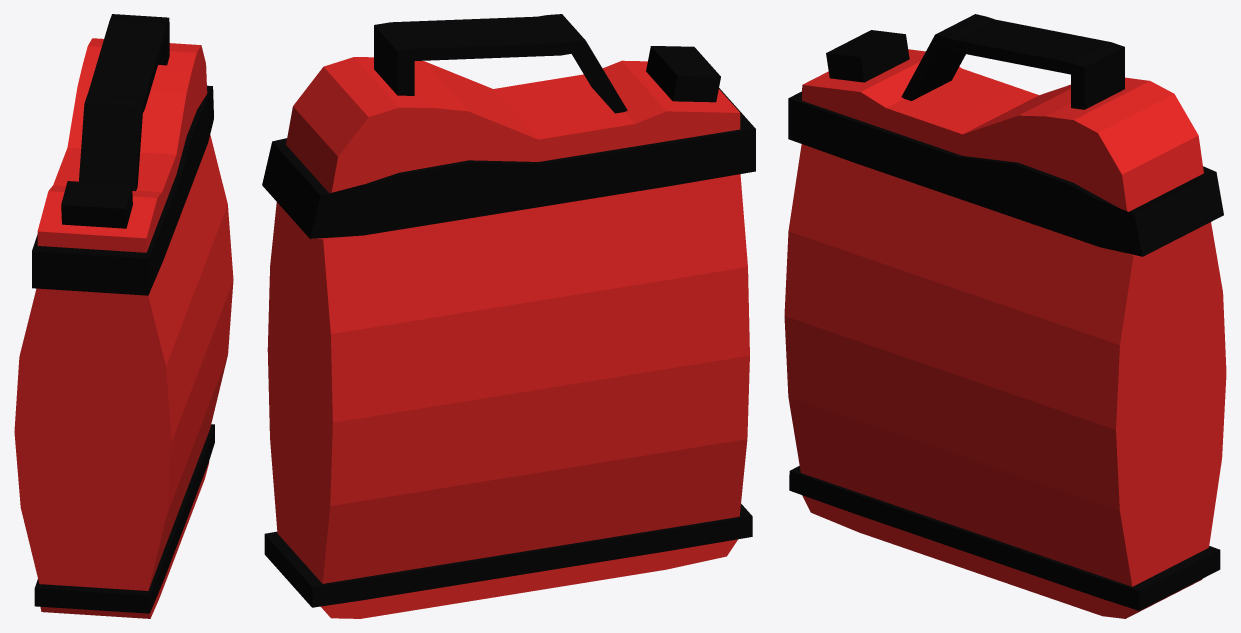
The model's file is fuelcan.glb.
The picture shows the model from 3 angles, left to right: view 1: azimuth 30°, elevation 25°; view 2: azimuth 150°, elevation 25°; view 3: azimuth 270°, elevation 25°; orthographic projection. The views are drawn at different scales.
Visible parts, largest first — view 1: Cube; view 2: Cube; view 3: Cube.
Part boxes in pixels (x1,y1,x2,y2): Cube: (14, 14, 233, 618); Cube: (262, 14, 755, 618); Cube: (784, 14, 1226, 618).
Bounding box in the file's own units: 1.47 × 2.1 × 1.6.
